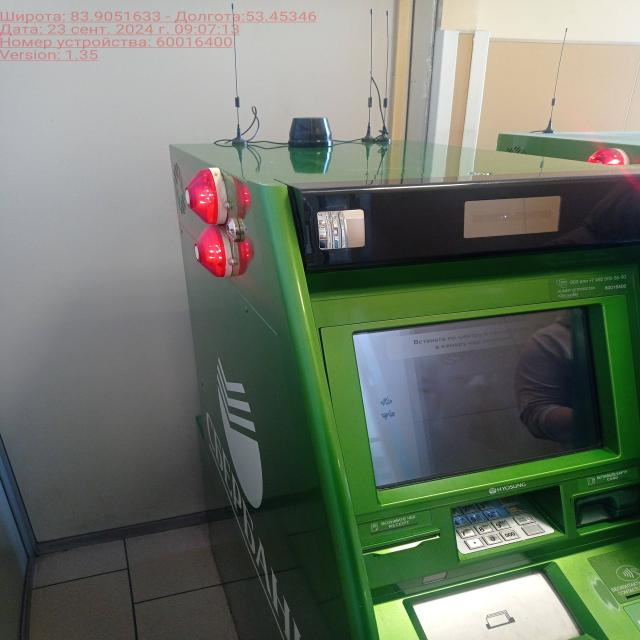bank: (175, 142, 640, 640)
